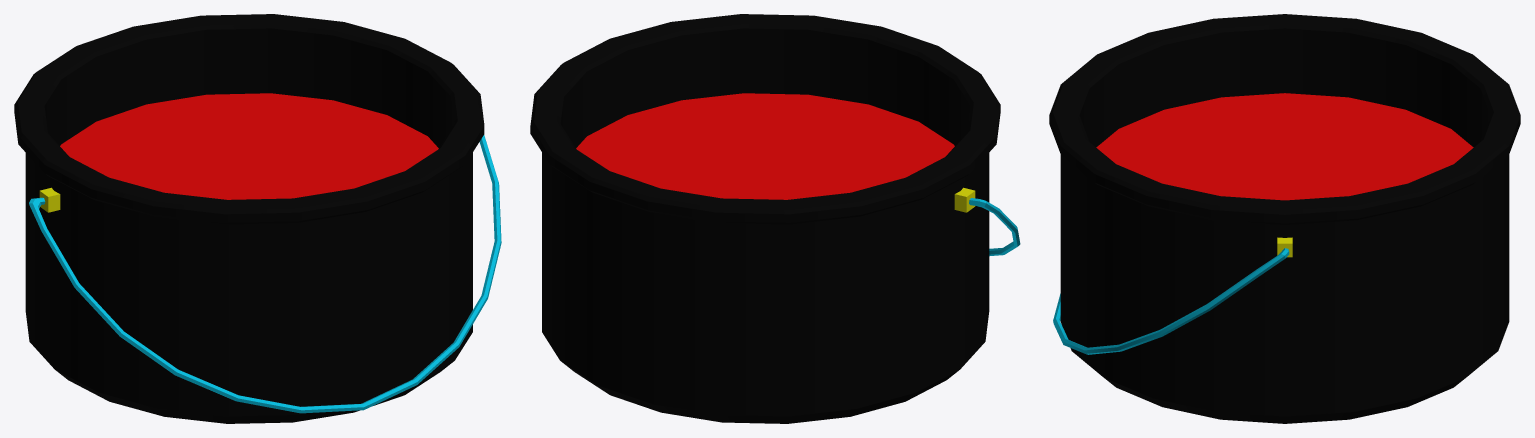
File: color_bucket.fbx
3 views of the same model, side by side, from view 1: azimuth 30°, elevation 25°; view 2: azimuth 150°, elevation 25°; view 3: azimuth 270°, elevation 25° (orthographic).
Visible parts, largest first — view 1: color_bucket; view 2: color_bucket; view 3: color_bucket.
Boxes of the visible parts, left/top/right/bottom form: color_bucket: left=14, top=14, right=501, bottom=423; color_bucket: left=530, top=14, right=1020, bottom=423; color_bucket: left=1049, top=14, right=1520, bottom=423.
Bounding box in the file's own units: 67.71 × 33 × 63.04.
